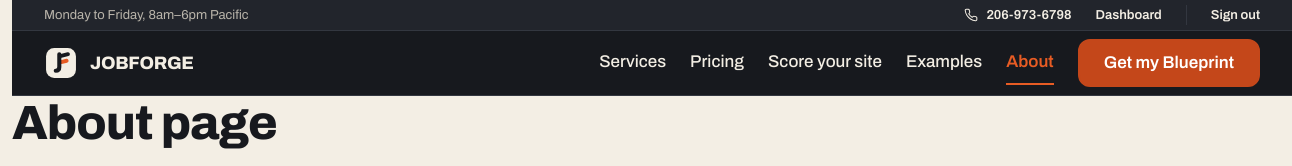
Test: Header › signing out › turns the strip back into the way in
What coordinates should you click on to do the following:
click the button "Sign out"
I would click on:
 (1223, 15)
Its box is [1186,5,1260,25].
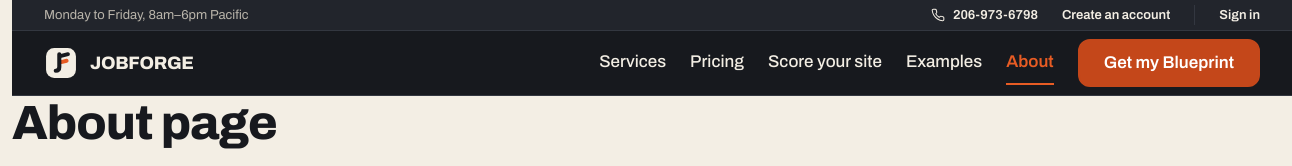
Check: the button "Sign out" is gone
